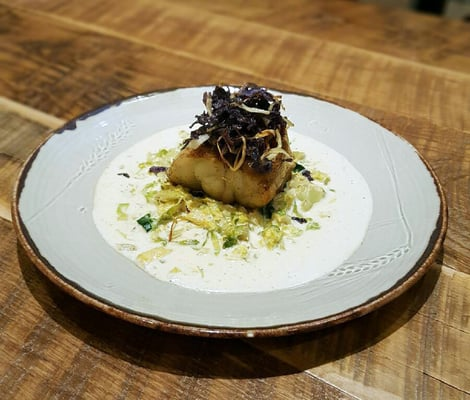curry: (6, 10, 467, 394)
